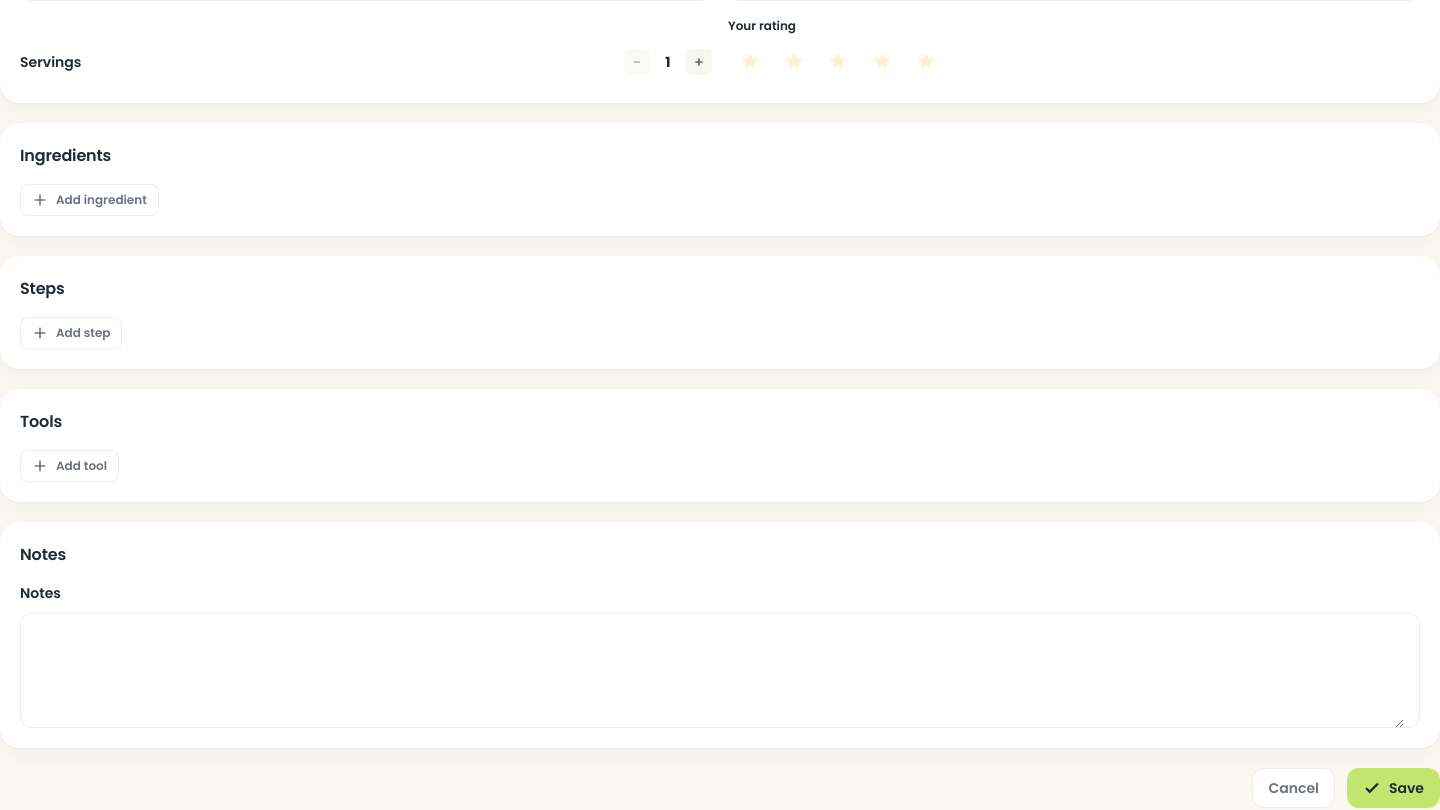
Test case: RecipeEditor › shows field errors next to the fields and doesn't save
(page scrolled)
Click the button "Save": coordinates (1394, 788) [1347, 768, 1439, 808]
(page scrolled)
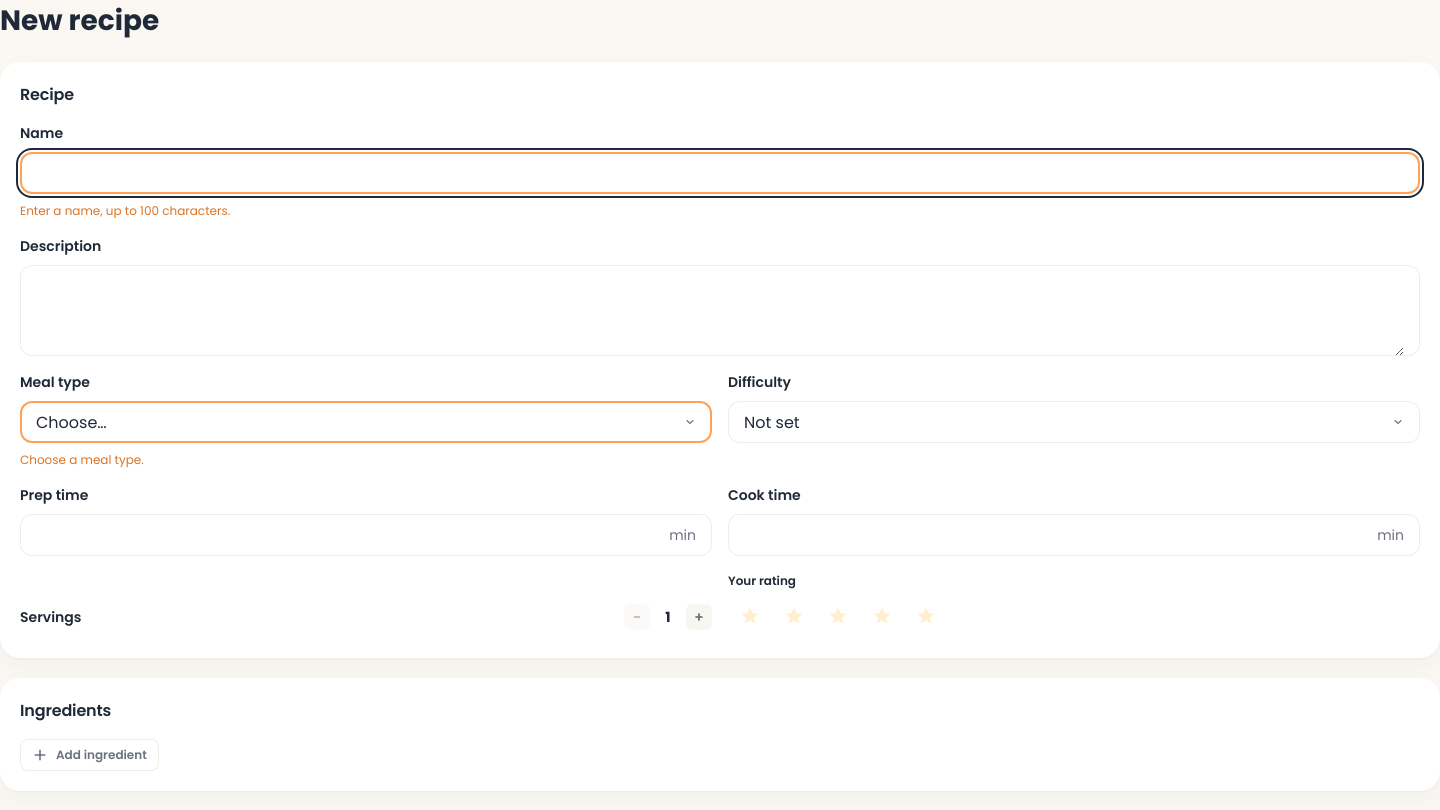
Now the message "Enter a name, up to 100 characters." is shown, box [20, 202, 230, 219]
Now the text "Choose a meal type." is shown, box [20, 451, 144, 468]
